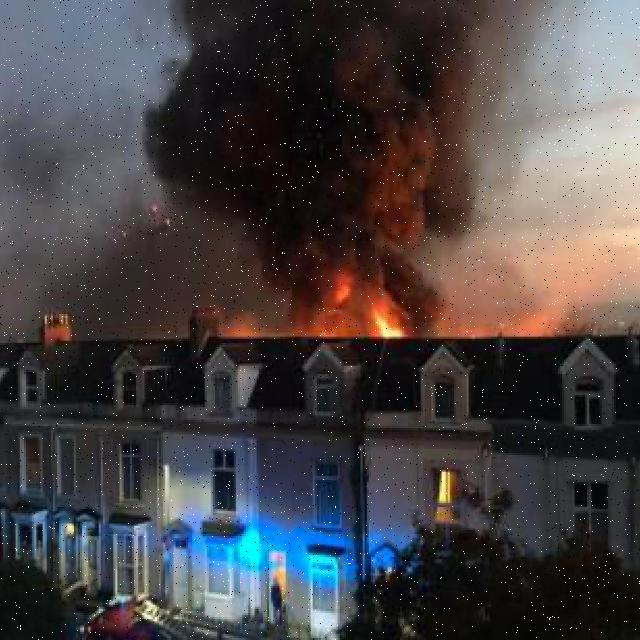fire: (323, 272, 350, 333), (365, 303, 406, 339)
smoke: (139, 0, 504, 309)
